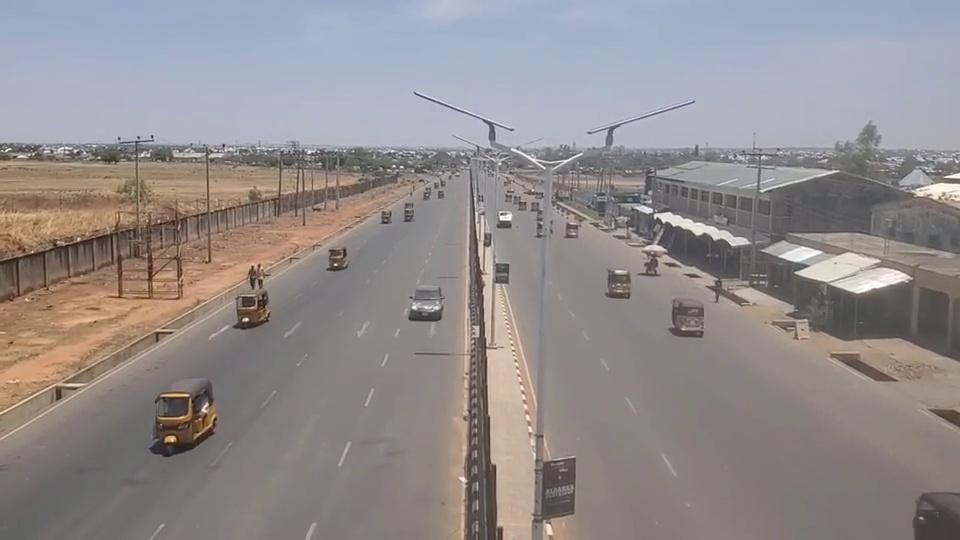car: (407, 283, 445, 319), (497, 210, 513, 228)
keke: (151, 376, 217, 450), (912, 491, 960, 539), (235, 289, 270, 327), (672, 297, 706, 336), (606, 268, 631, 298), (328, 247, 350, 271), (565, 221, 579, 238), (381, 209, 392, 224), (404, 207, 414, 221)
